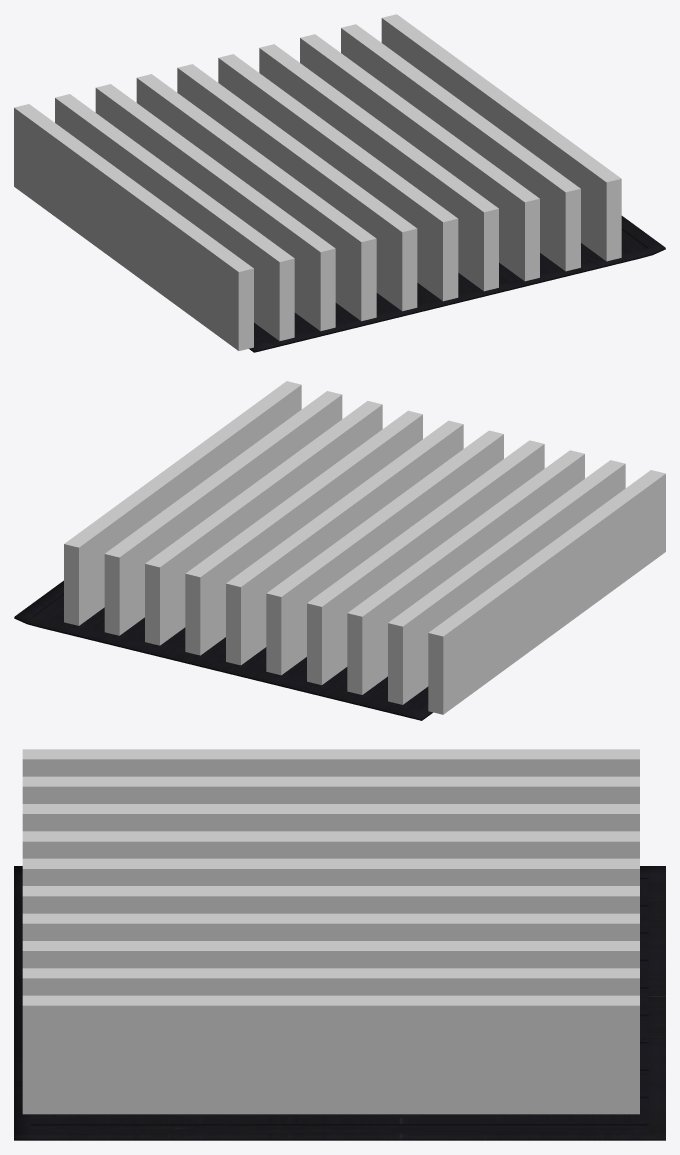
The model's file is ковер тип2.fbx.
3 renders of one model, top to bottom at view 1: azimuth 30°, elevation 25°; view 2: azimuth 150°, elevation 25°; view 3: azimuth 270°, elevation 25°, orthographic. The views are drawn at different scales.
Parts seen in each view (by area): view 1: Cube, Plane; view 2: Cube, Plane; view 3: Cube, Plane.
Boxes of the visible parts, box(x1,y1,x2,y2) form: Cube: box(14, 14, 621, 350); Plane: box(249, 216, 665, 352); Cube: box(64, 381, 665, 714); Plane: box(14, 580, 432, 720); Cube: box(22, 749, 639, 1114); Plane: box(14, 866, 665, 1140).
Size of the model in its own units: 206 by 37.77 by 200.
